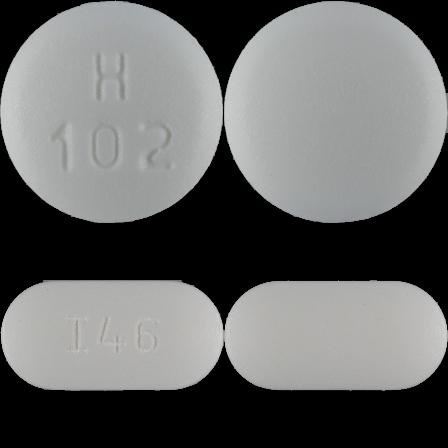63629-1395: (0, 0, 224, 224)
